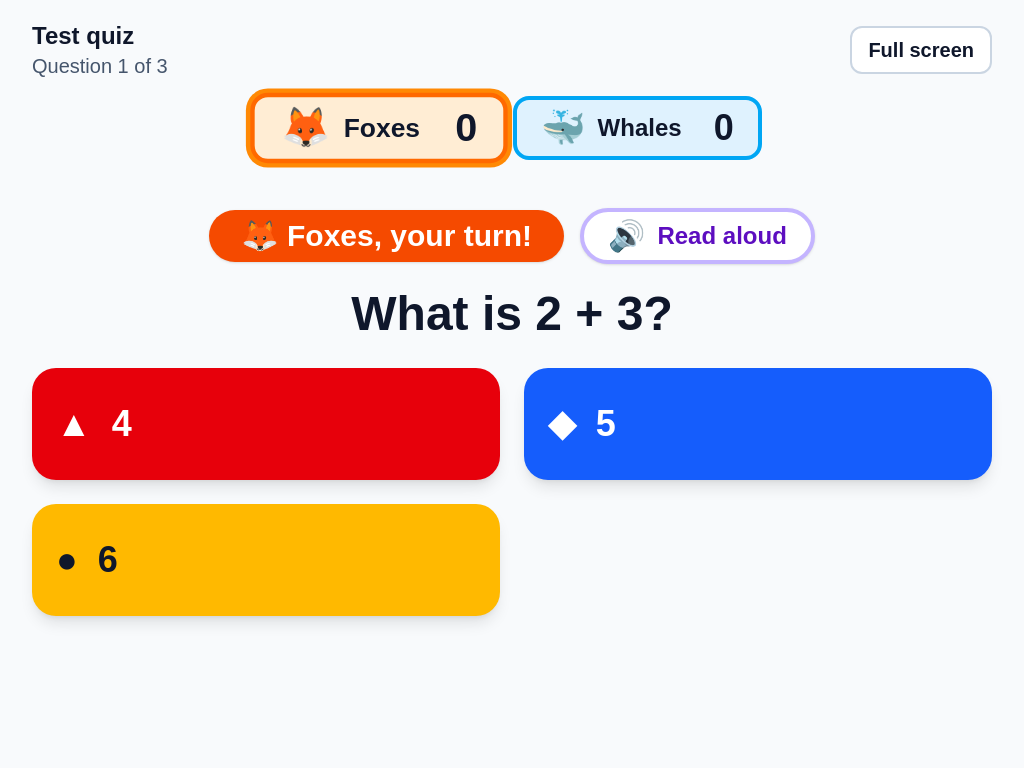
Test case: read aloud › hides the button if the server reports it's no longer configured
Click the button "🔊 Read aloud" at (697, 236), box [580,208,815,264]
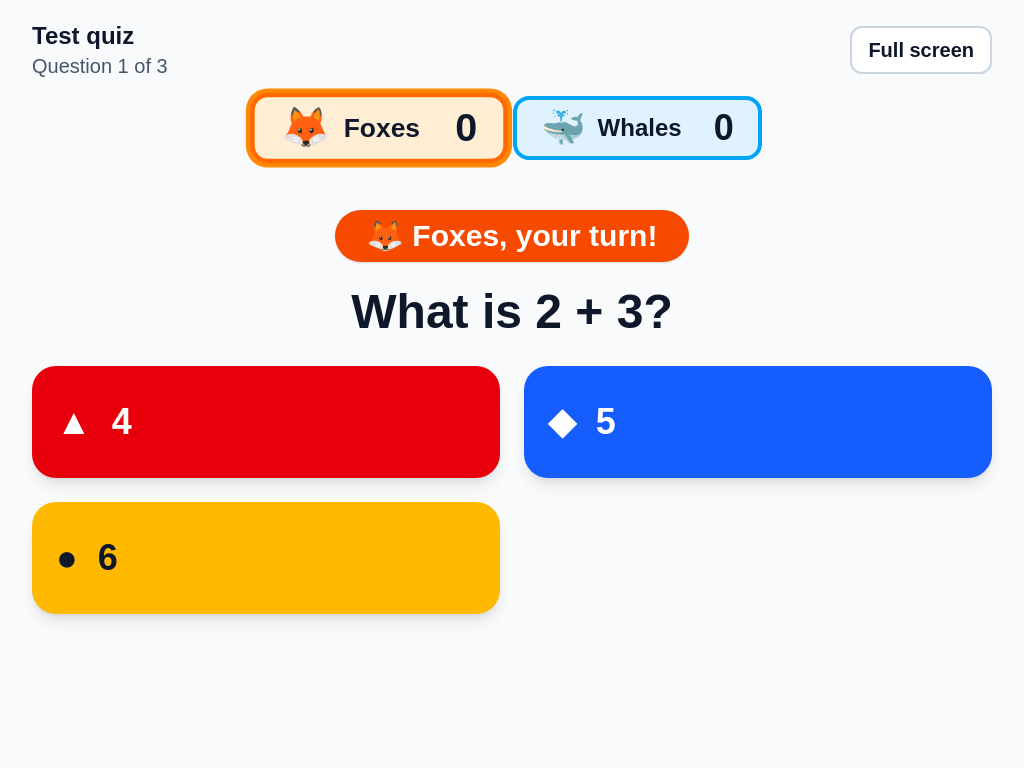
Expected: the button "🔊 Read aloud" is gone
